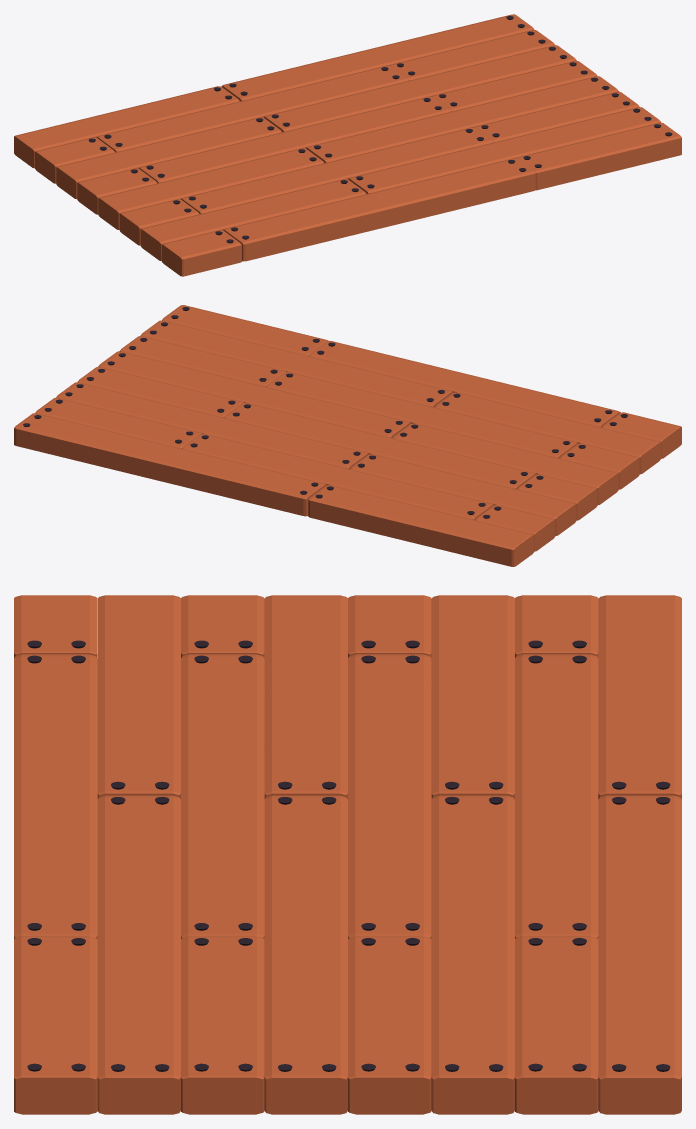
The model's file is Podloga2.fbx.
3 views of the same model, one above another, from view 1: azimuth 30°, elevation 25°; view 2: azimuth 150°, elevation 25°; view 3: azimuth 270°, elevation 25° (orthographic). The views are drawn at different scales.
Visible parts, largest first — view 1: DrewnianaPodloga.001; view 2: DrewnianaPodloga.001; view 3: DrewnianaPodloga.001.
Boxes of the visible parts, x1,y1,x2,y2 form: DrewnianaPodloga.001: (14, 14, 681, 276); DrewnianaPodloga.001: (14, 305, 681, 566); DrewnianaPodloga.001: (14, 595, 681, 1114).
Size of the model in its own units: 13.68 by 0.5271 by 8.
